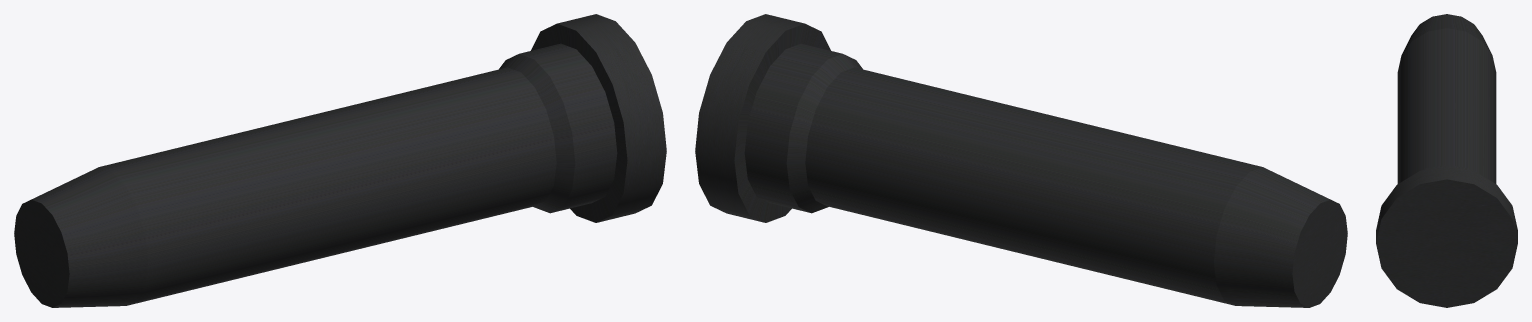
Rendered from Buffer.dae.
The picture shows the model from 3 angles, left to right: view 1: azimuth 30°, elevation 25°; view 2: azimuth 150°, elevation 25°; view 3: azimuth 270°, elevation 25°; orthographic projection. The views are drawn at different scales.
Visible parts, largest first — view 1: Buffer; view 2: Buffer; view 3: Buffer.
Part boxes in pixels (<box>): Buffer: <box>14,14,666,307</box>; Buffer: <box>695,14,1347,307</box>; Buffer: <box>1376,14,1517,307</box>.
Bounding box in the file's own units: 0.08 × 0.0246 × 0.0246.
Materials: 1 (1 with a texture image).
